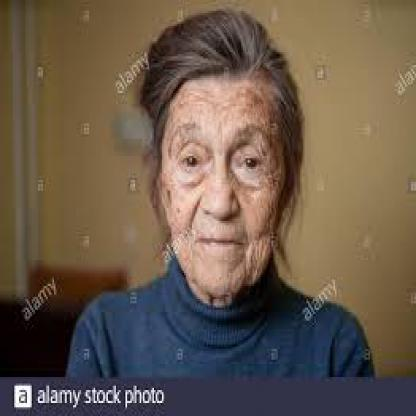puffyeye: (232, 132, 278, 154), (238, 165, 267, 186), (176, 132, 203, 152), (174, 167, 202, 186)
wrinkle: (168, 91, 258, 117), (248, 240, 266, 271)
